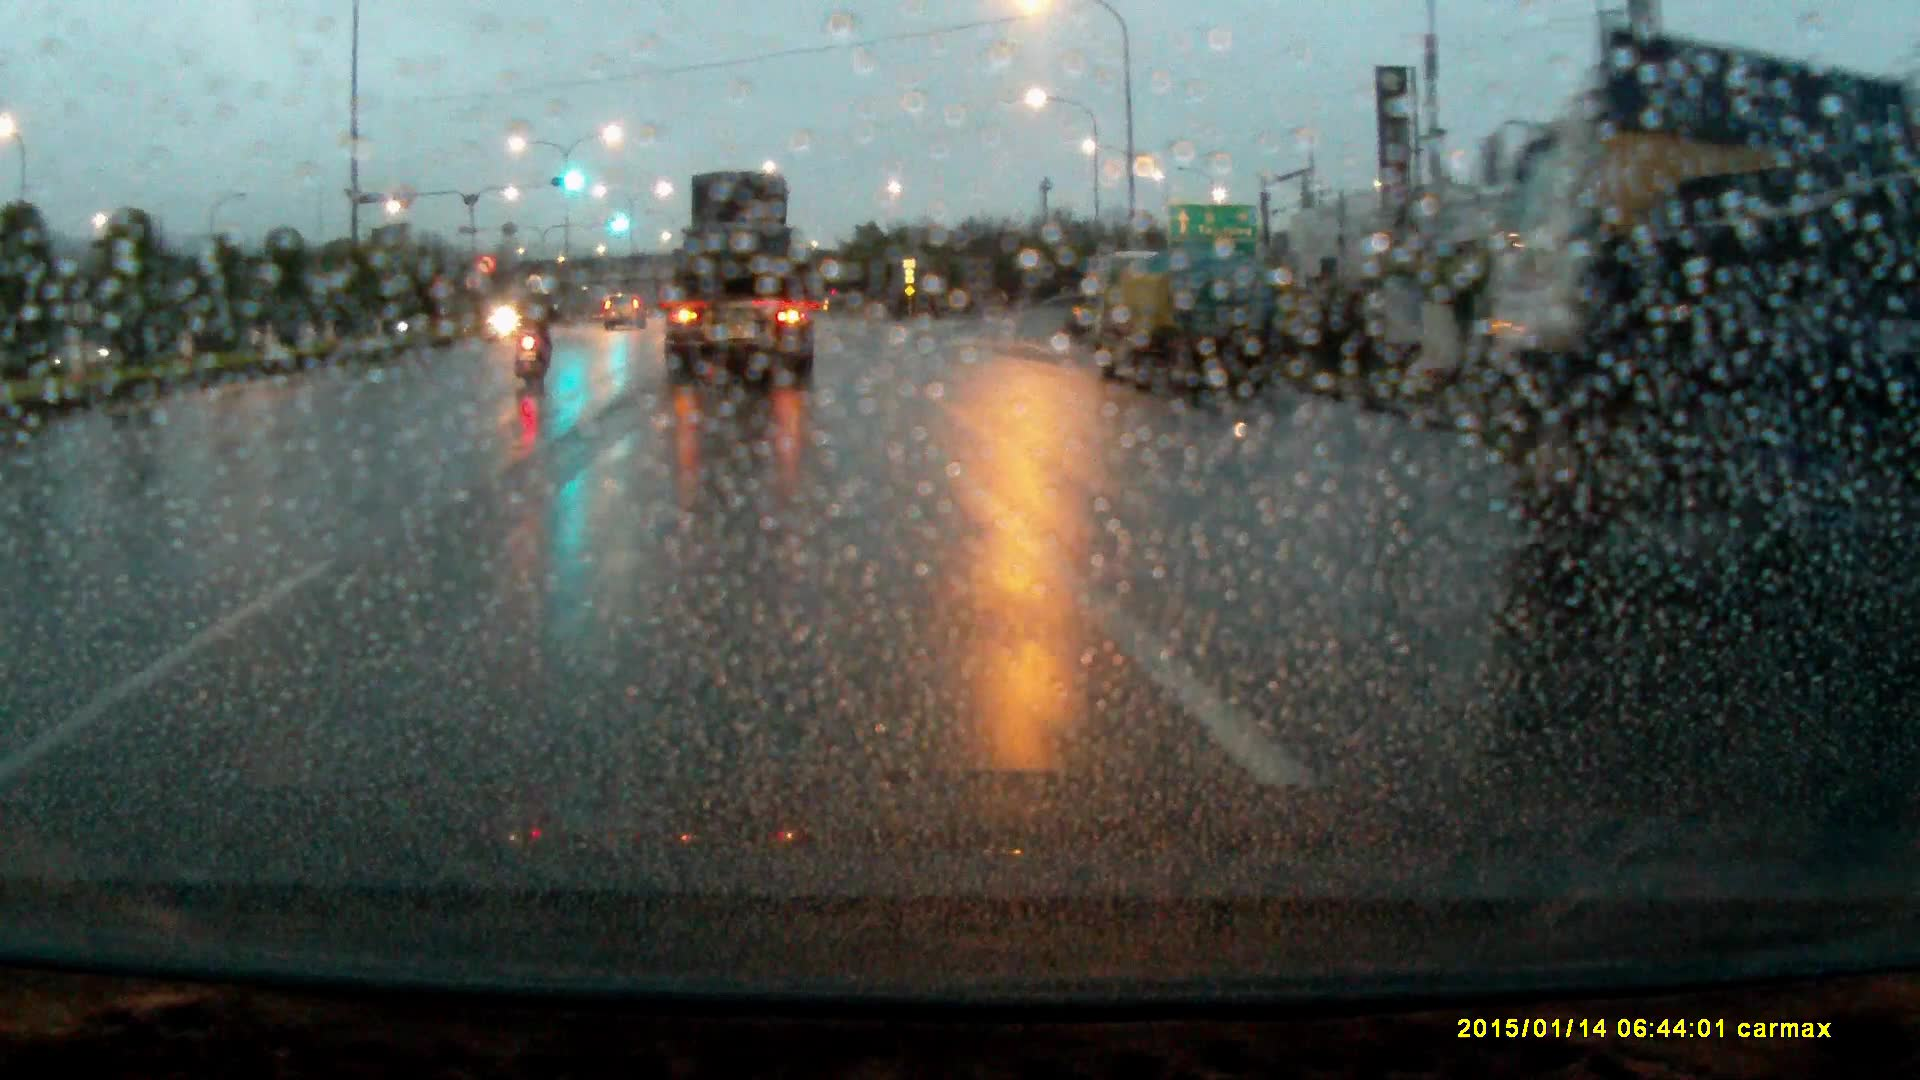rider: (510, 272, 564, 379)
vehicle: (1501, 31, 1920, 546), (659, 169, 819, 395), (1079, 252, 1287, 400), (603, 294, 647, 334)
